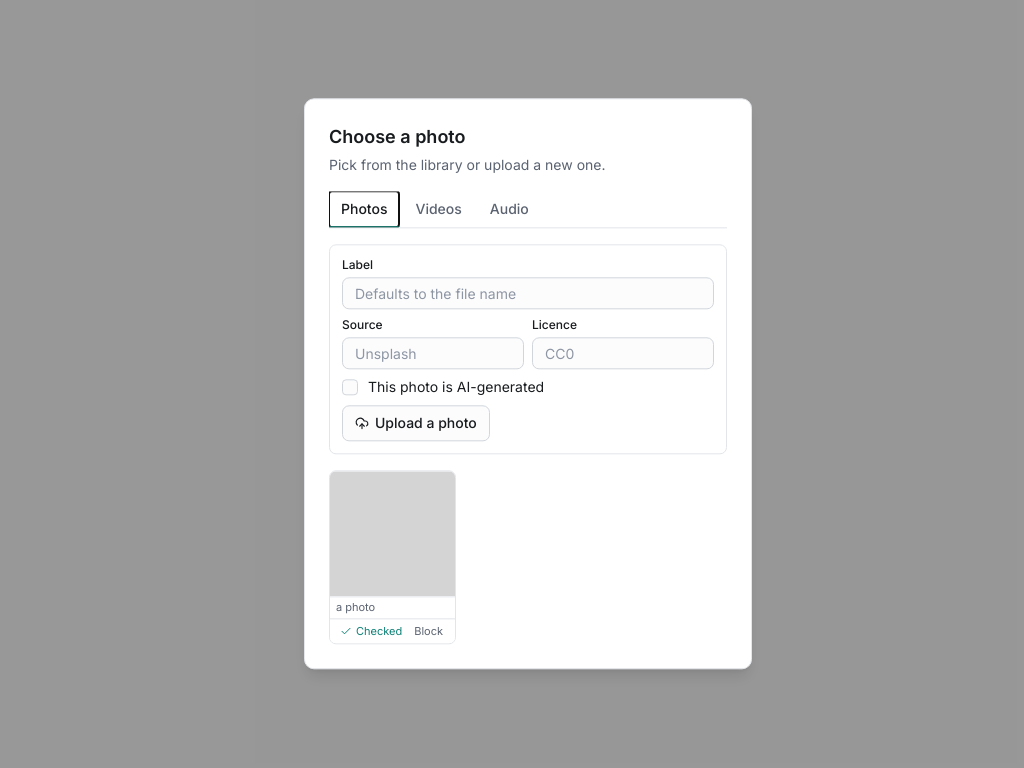
Scenario: MediaPicker › shows only the active tab's media, and switches on click
Click the tab "Videos" at (439, 209), box x1=404 y1=191 x2=474 y2=227
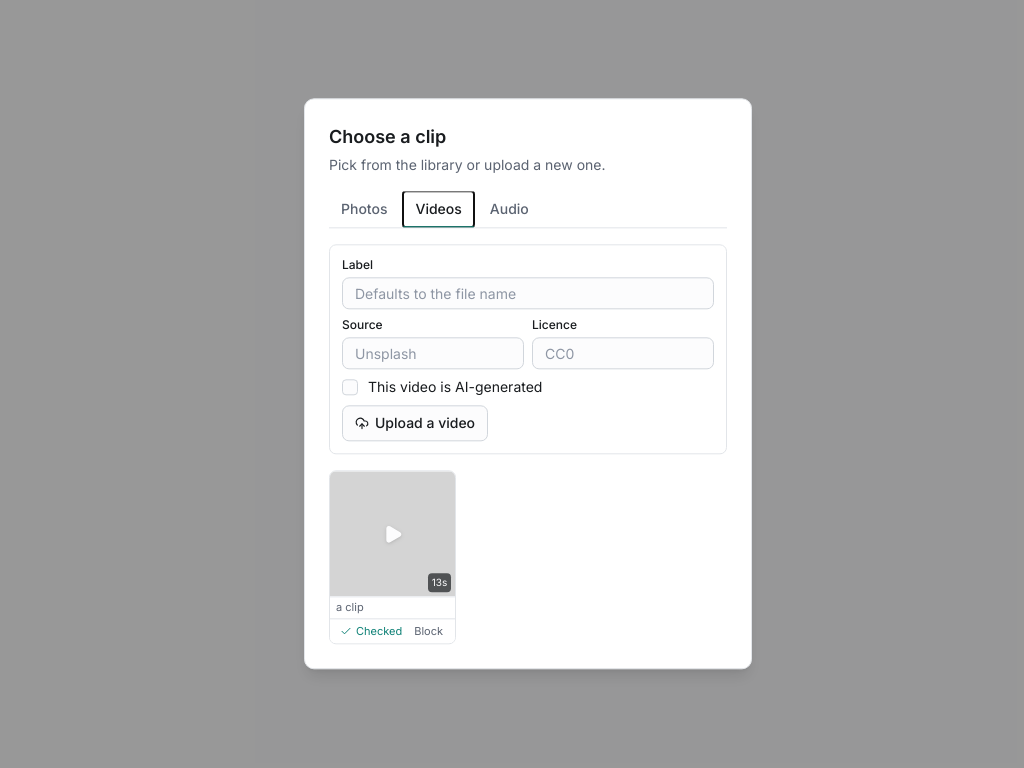
Click the tab "Audio" at (509, 209), box x1=478 y1=191 x2=541 y2=227
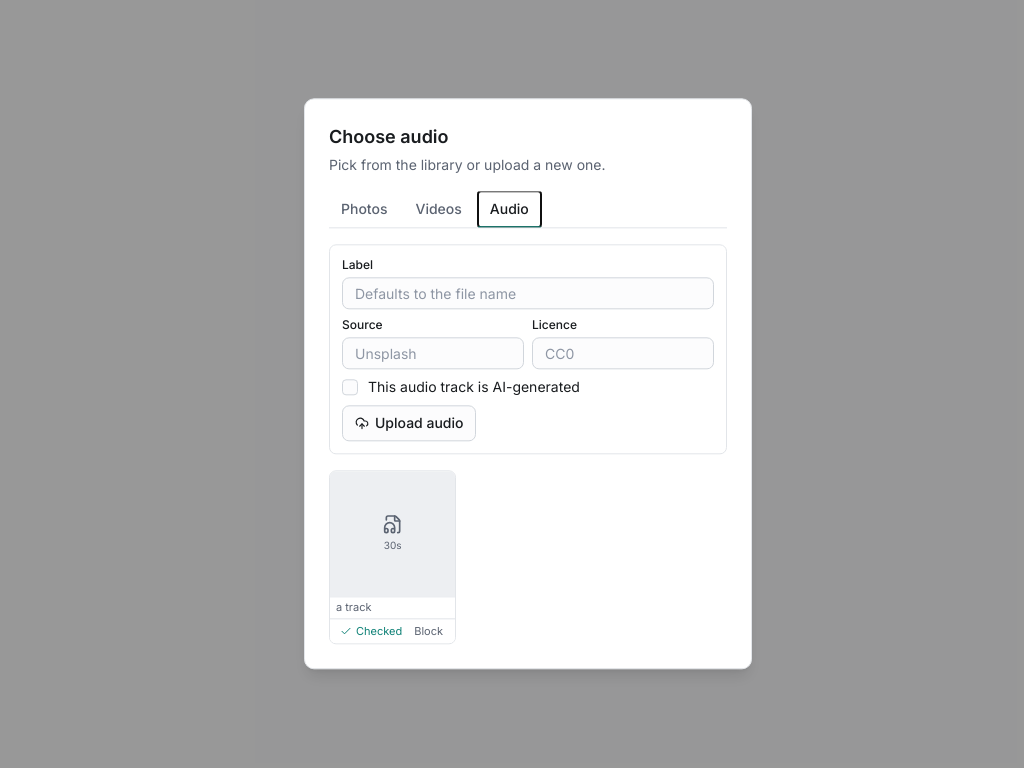
Expected: the element with test id "audio-picker-grid" is shown, x1=329 y1=470 x2=456 y2=645
